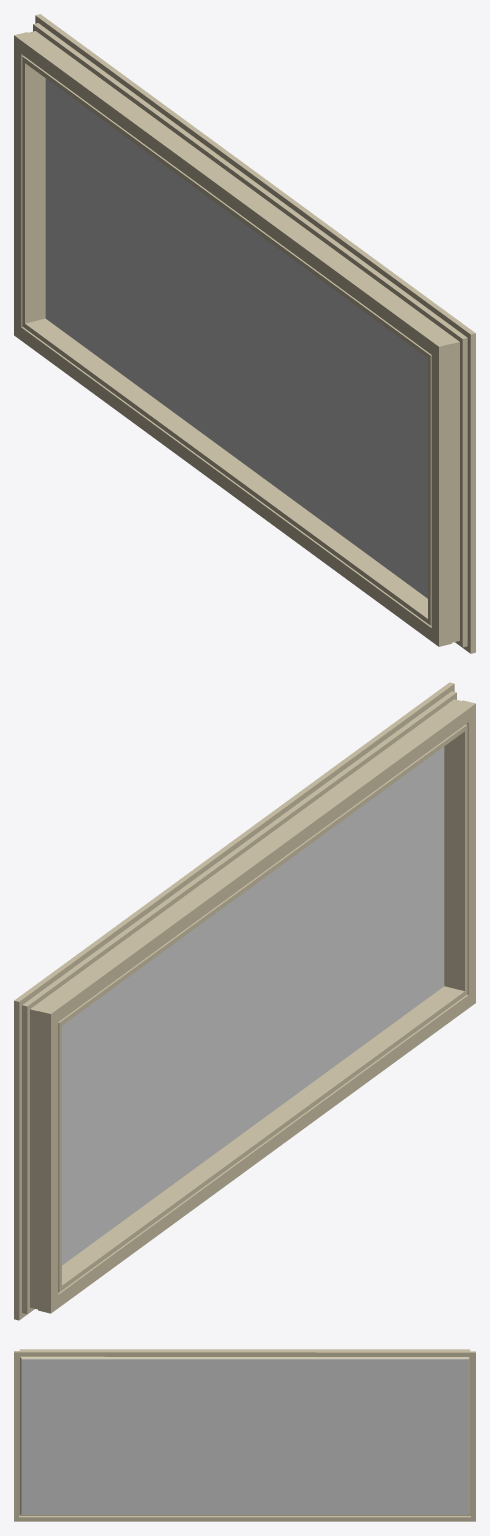
3 views of the same model, one above another, from view 1: azimuth 30°, elevation 25°; view 2: azimuth 150°, elevation 25°; view 3: azimuth 270°, elevation 25° (orthographic). The views are drawn at different scales.
Parts seen in each view (by area): view 1: AWS114_SG Manual:AWS114 SG Manual CW:9860657; view 2: AWS114_SG Manual:AWS114 SG Manual CW:9860657; view 3: AWS114_SG Manual:AWS114 SG Manual CW:9860657.
Part boxes in pixels (x1,y1,x2,y2): AWS114_SG Manual:AWS114 SG Manual CW:9860657: (14, 14, 475, 653); AWS114_SG Manual:AWS114 SG Manual CW:9860657: (14, 682, 475, 1320); AWS114_SG Manual:AWS114 SG Manual CW:9860657: (14, 1349, 475, 1521).
Bounding box in the file's own units: 0.1058 × 1 × 2.48.
